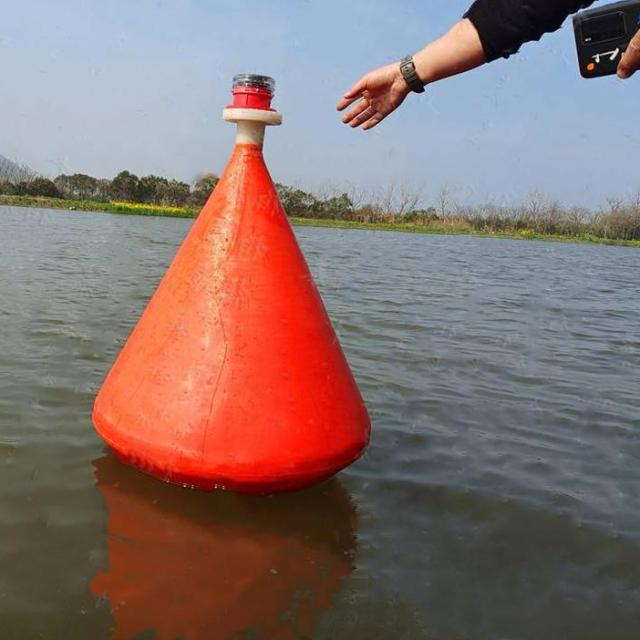buoy: (87, 62, 373, 478)
